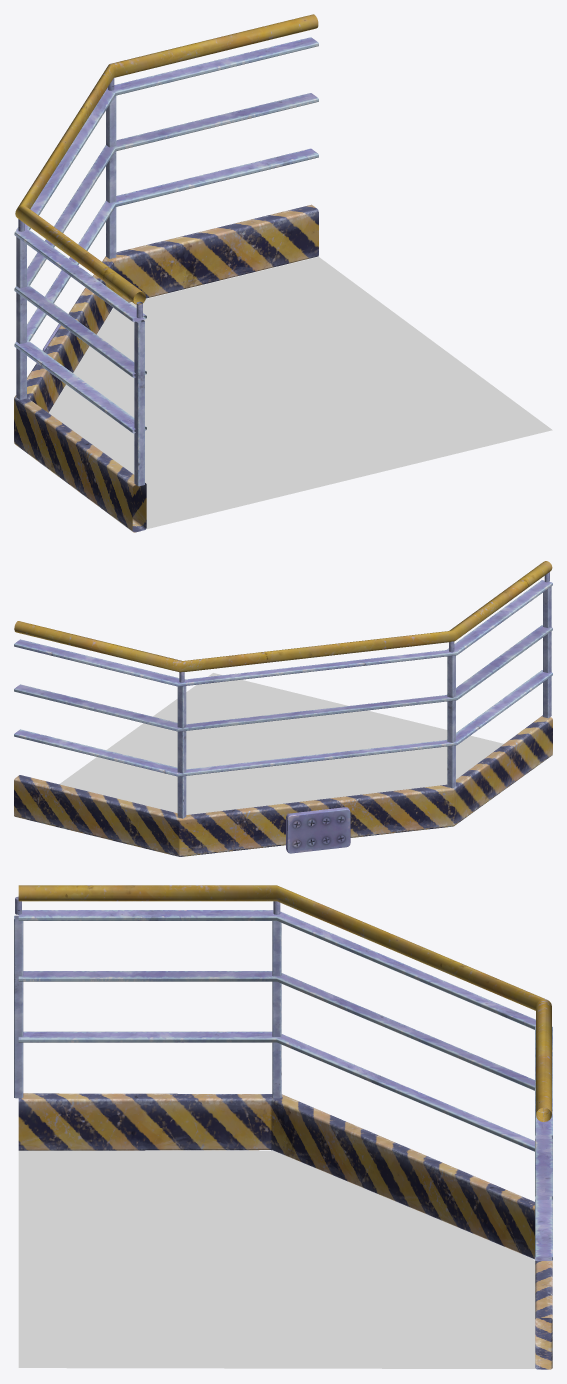
Rendered from SM_Walkway_Curve.fbx.
3 views of the same model, one above another, from view 1: azimuth 30°, elevation 25°; view 2: azimuth 150°, elevation 25°; view 3: azimuth 270°, elevation 25° (orthographic). The views are drawn at different scales.
Visible parts, largest first — view 1: SM_Walkway_Curve; view 2: SM_Walkway_Curve; view 3: SM_Walkway_Curve.
Boxes of the visible parts, x1,y1,x2,y2 form: SM_Walkway_Curve: [14, 14, 552, 532]; SM_Walkway_Curve: [14, 561, 552, 856]; SM_Walkway_Curve: [14, 885, 552, 1369].
Size of the model in its own units: 619 by 346 by 626.
